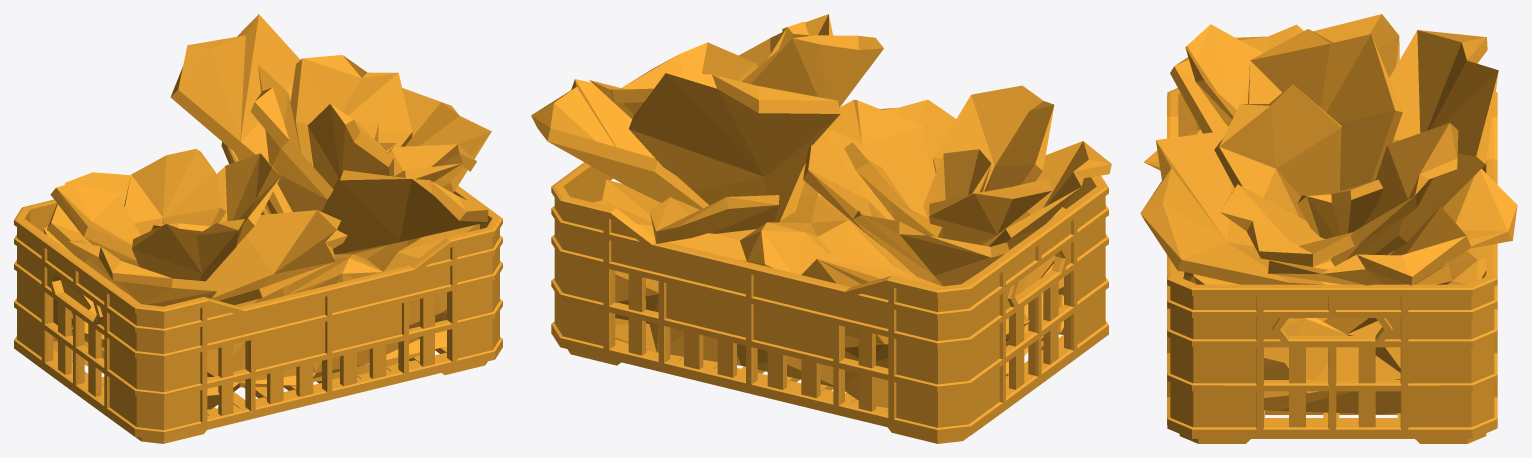
Rendered from SM_Crate_Plastic_Small_Salad.fbx.
3 renders of one model, left to right at view 1: azimuth 30°, elevation 25°; view 2: azimuth 150°, elevation 25°; view 3: azimuth 270°, elevation 25°, orthographic. The views are drawn at different scales.
Parts seen in each view (by area): view 1: crate-plastic-small-salad; view 2: crate-plastic-small-salad; view 3: crate-plastic-small-salad.
Boxes of the visible parts, x1,y1,x2,y2 form: crate-plastic-small-salad: (14,14,502,443); crate-plastic-small-salad: (531,14,1111,443); crate-plastic-small-salad: (1140,14,1517,443).
Size of the model in its own units: 0.7164 by 0.4361 by 0.4655.
